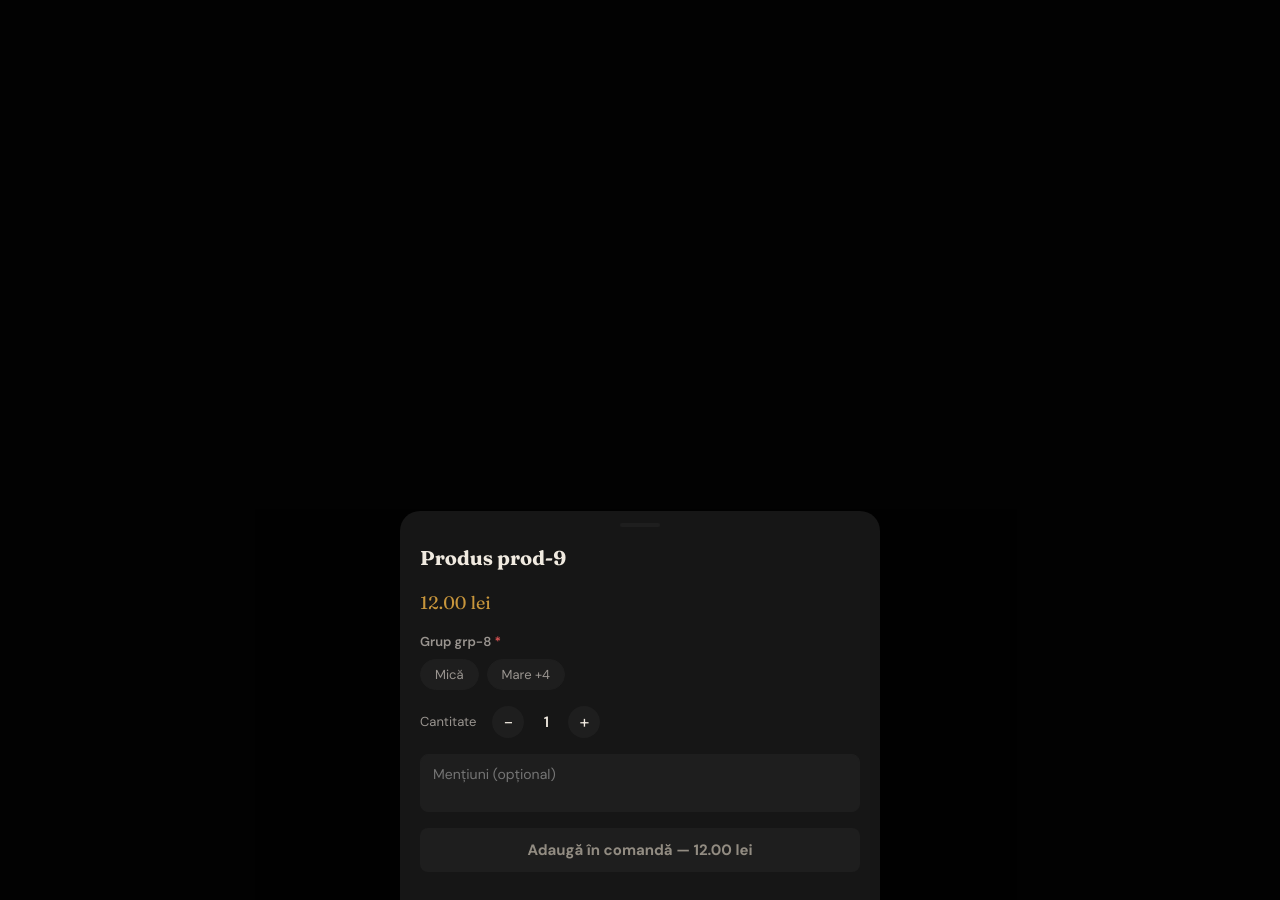
ModifierSheet — matematica banilor + gating server-parity › grup single obligatoriu: butonul e blocat până se alege o opțiune
Expected: the button "Adaugă în comandă — 12.00 lei" is disabled, [420,828,860,872]
Click the radio button labelled "Mare +4" at (526, 674), box [487,659,565,690]
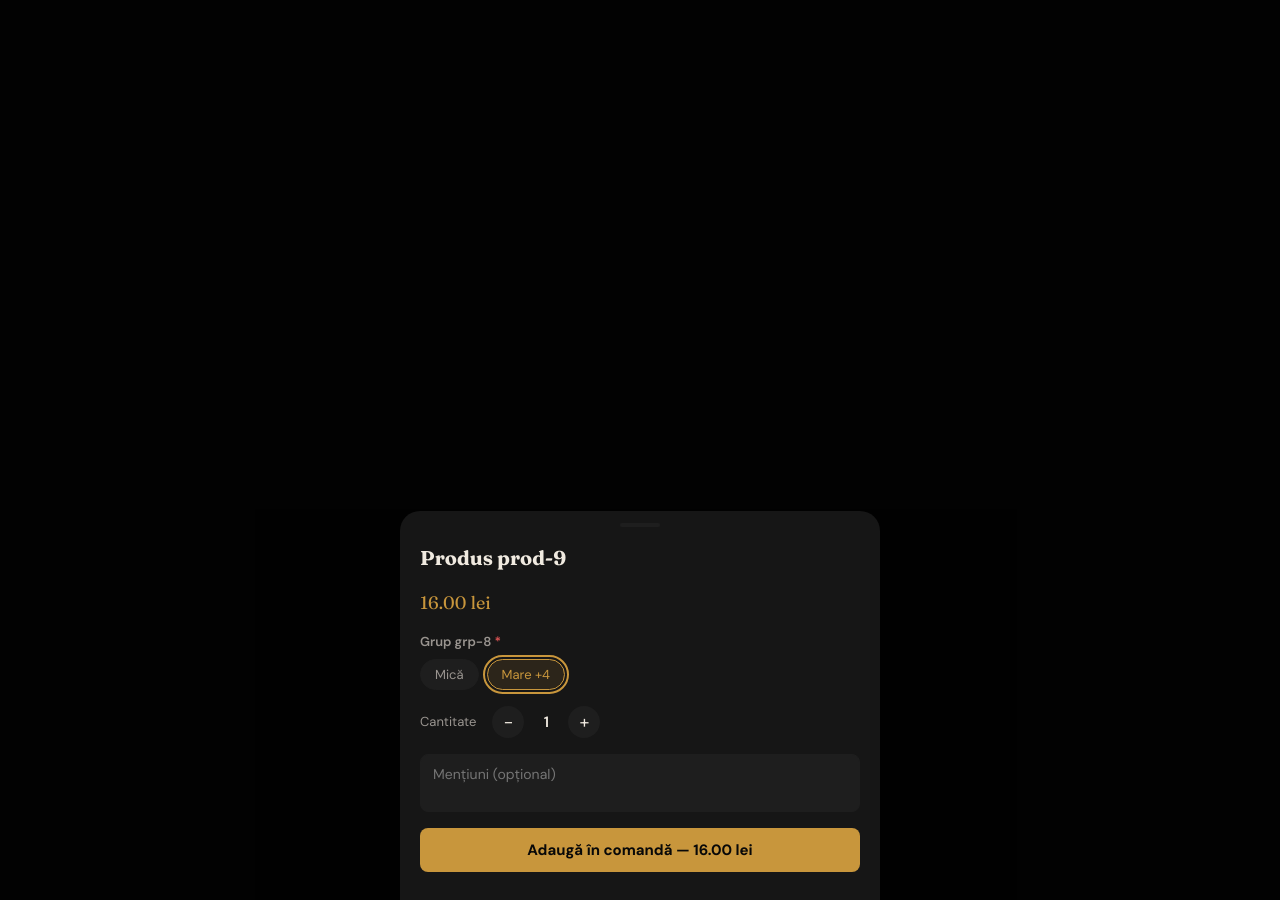
Expected: the button "Adaugă în comandă — 16.00 lei" is enabled, [420,828,860,872]
Expected: the button "Adaugă în comandă — 16.00 lei" is shown, [420,828,860,872]
